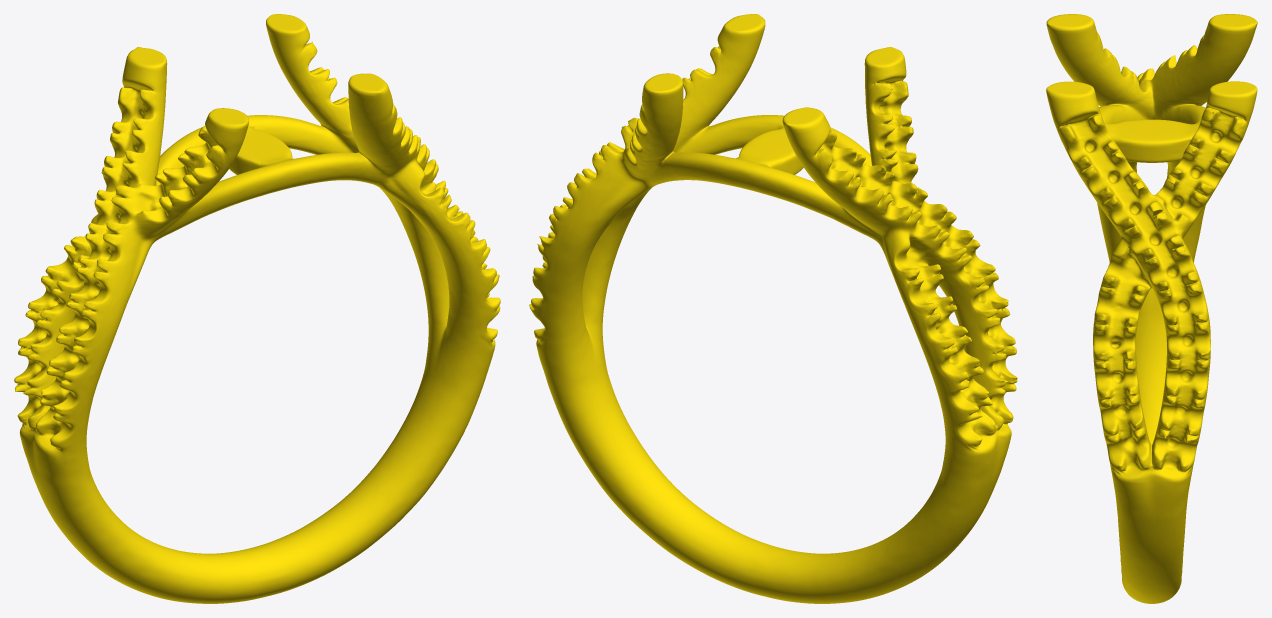
The model's file is Shank_Twist_U Prong_B_Single Halo_Band.glb.
3 views of the same model, side by side, from view 1: azimuth 30°, elevation 25°; view 2: azimuth 150°, elevation 25°; view 3: azimuth 270°, elevation 25° (orthographic).
Size of the model in its own units: 0.0214 by 0.0237 by 0.00869.
